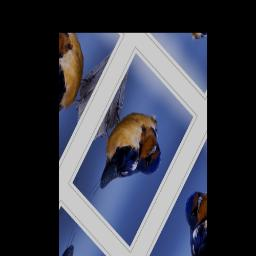Swallow: (75, 80, 175, 237)
